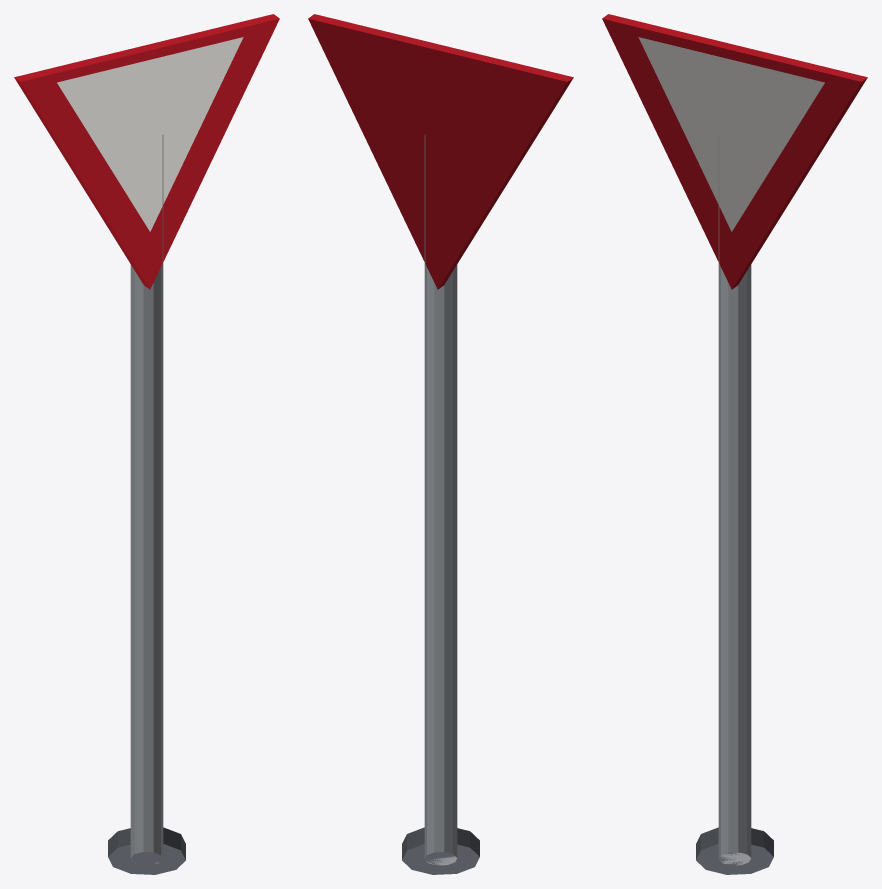
The model's file is sign-yield.glb.
3 views of the same model, side by side, from view 1: azimuth 30°, elevation 25°; view 2: azimuth 150°, elevation 25°; view 3: azimuth 330°, elevation 25° (orthographic).
Parts seen in each view (by area): view 1: sign-yield; view 2: sign-yield; view 3: sign-yield.
Part boxes in pixels (x1,y1,x2,y2): sign-yield: [14, 14, 279, 874]; sign-yield: [308, 14, 573, 874]; sign-yield: [602, 14, 867, 874].
Bounding box in the file's own units: 0.825 × 2.46 × 0.2054.
